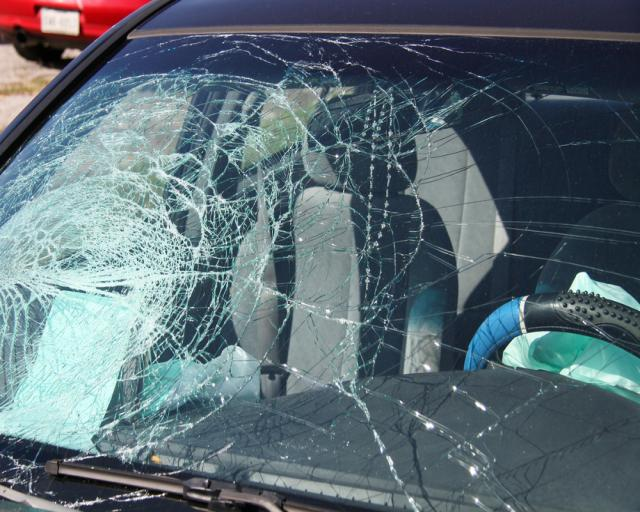glass shatter: (0, 33, 640, 512)
